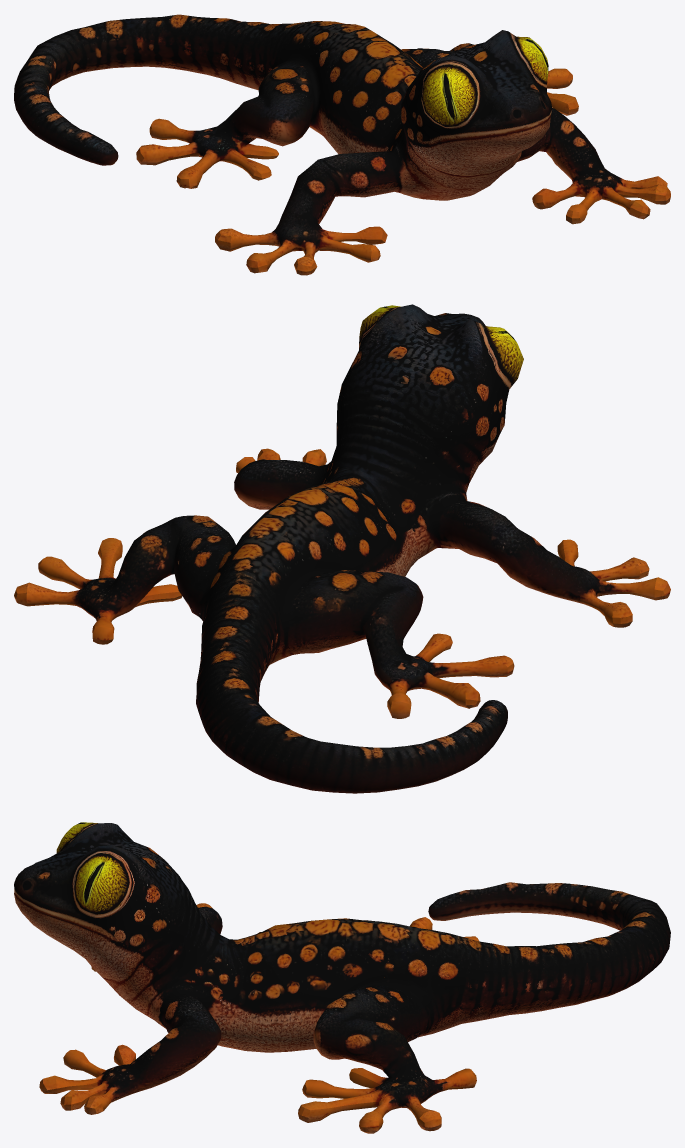
File: gekco.glb
3 renders of one model, top to bottom at view 1: azimuth 30°, elevation 25°; view 2: azimuth 150°, elevation 25°; view 3: azimuth 270°, elevation 25°, orthographic. The views are drawn at different scales.
Parts seen in each view (by area): view 1: Gekco; view 2: Gekco; view 3: Gekco.
Boxes of the visible parts, box(x1,y1,x2,y2) form: Gekco: box(14, 14, 670, 275); Gekco: box(14, 304, 670, 793); Gekco: box(14, 822, 670, 1133).
Size of the model in its own units: 2.14 by 0.8954 by 2.55.
Materials: 1 (1 with a texture image).
